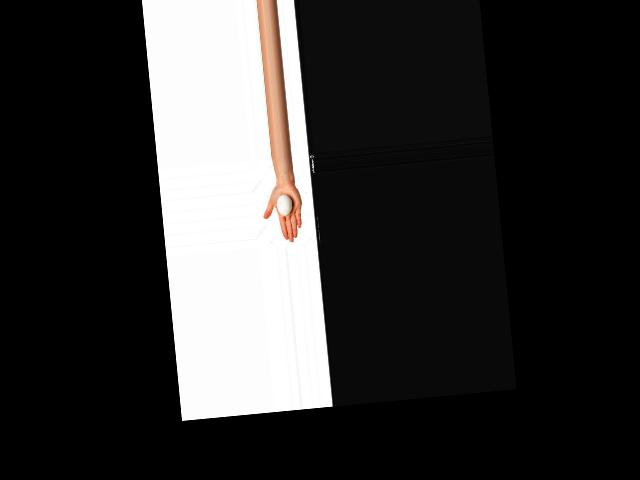egg: (276, 194, 293, 216)
